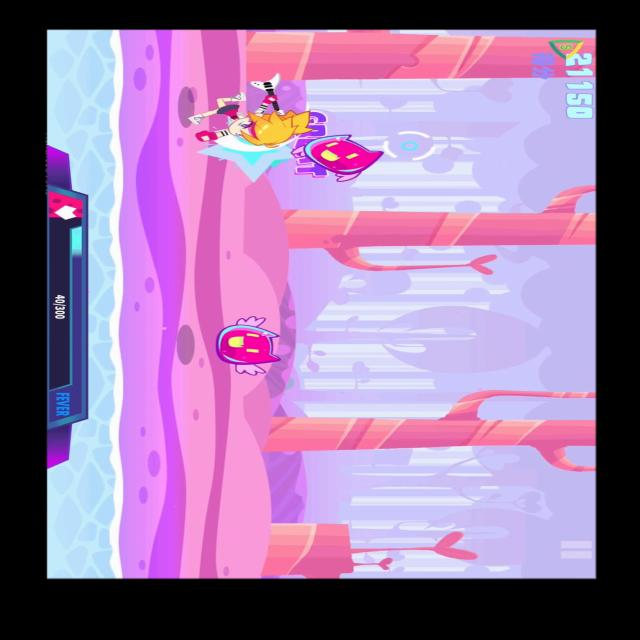Ground Monster - Red Devil: (208, 314, 286, 384)
